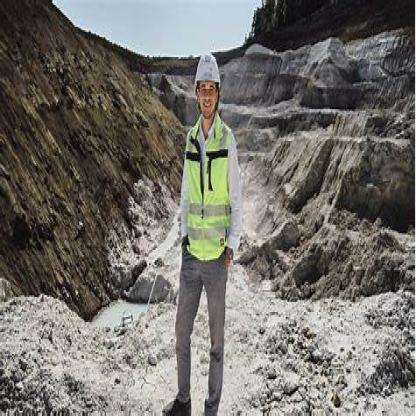person: (154, 35, 248, 414)
